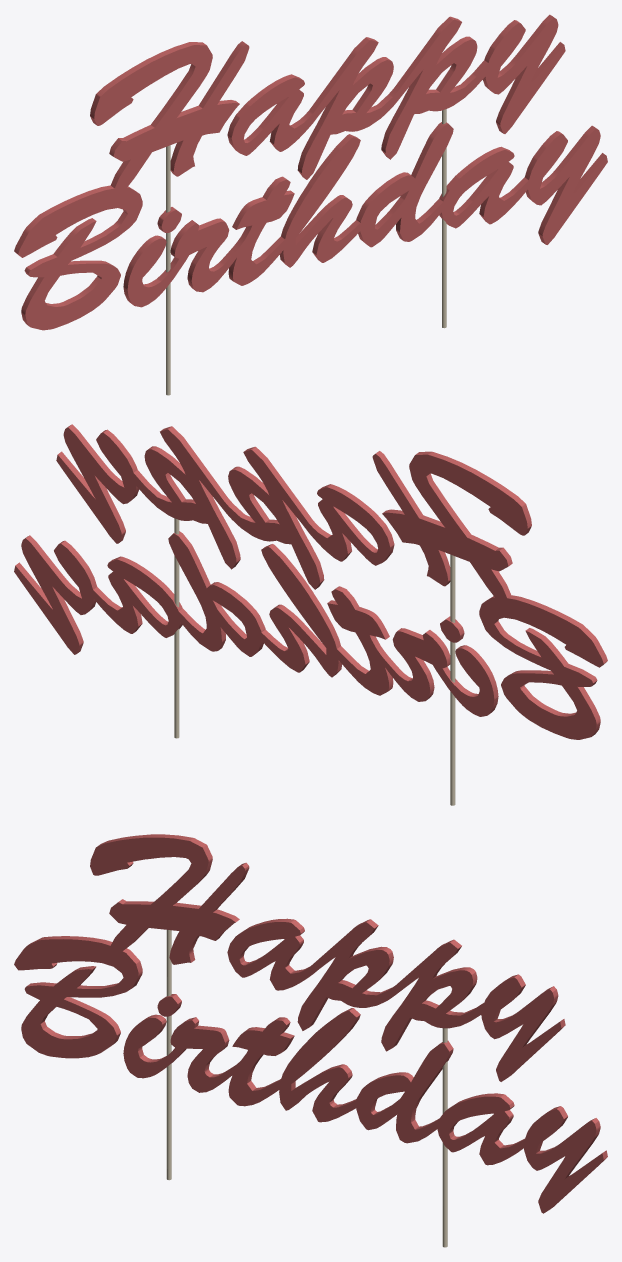
The model's file is Cake_Topper.fbx.
3 views of the same model, one above another, from view 1: azimuth 30°, elevation 25°; view 2: azimuth 150°, elevation 25°; view 3: azimuth 330°, elevation 25° (orthographic).
Parts seen in each view (by area): view 1: Happy_Birthday_Text, Support_Sticks; view 2: Happy_Birthday_Text, Support_Sticks; view 3: Happy_Birthday_Text, Support_Sticks.
Boxes of the visible parts, x1,y1,x2,y2 form: Happy_Birthday_Text: (14,14,607,330); Support_Sticks: (166,109,446,395); Happy_Birthday_Text: (14,424,607,739); Support_Sticks: (174,518,455,805); Happy_Birthday_Text: (14,834,607,1213); Support_Sticks: (166,930,447,1247).
Bounding box in the file's own units: 43.05 × 24.11 × 0.53.
